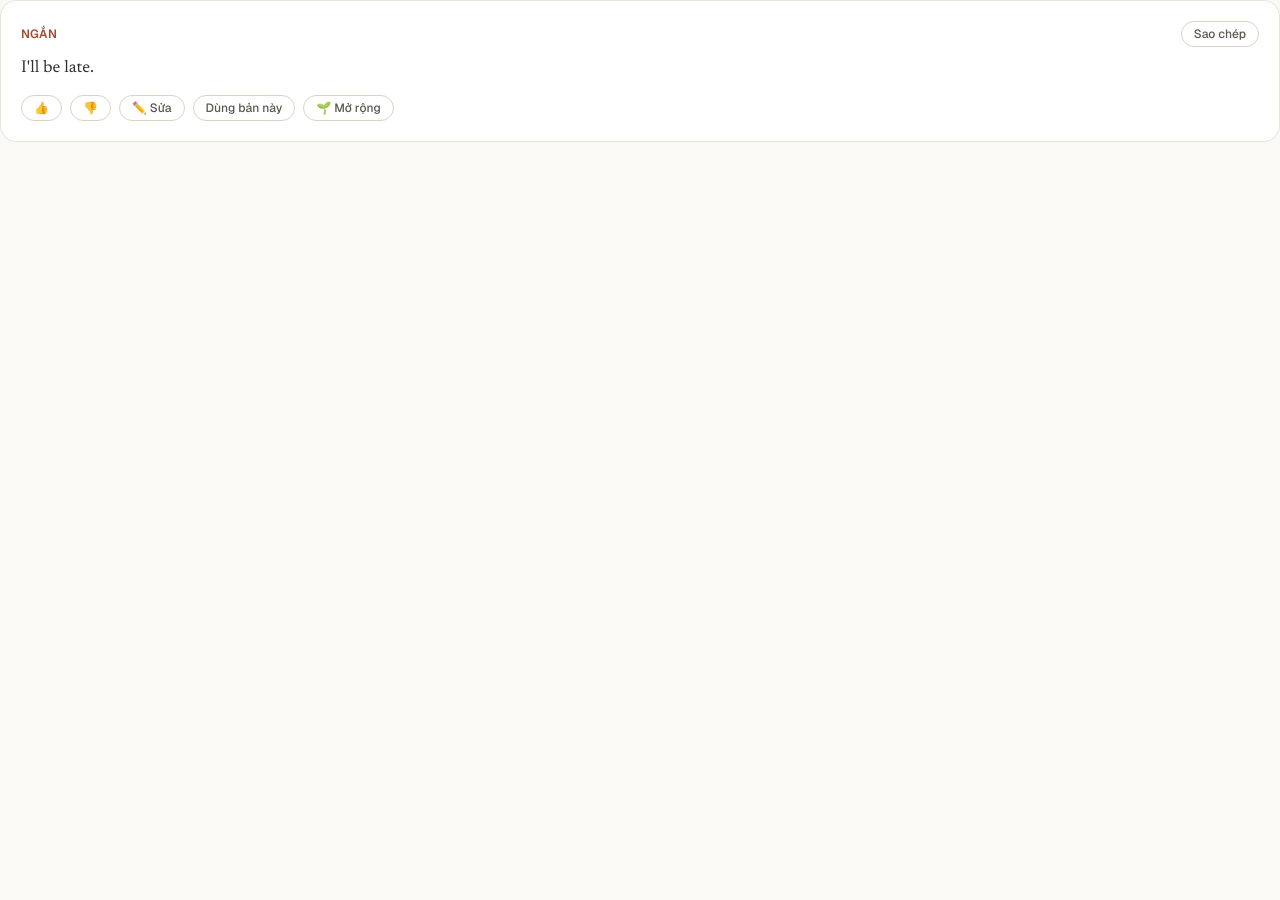
Test: DevelopableOption › shows the two developed versions below the original, which stays
Expected: the button named "Bản nháp hay" is shown, top-left (21, 95), bottom-right (62, 121)
Click the button with aria-label "Mở rộng bản nháp này". click: (349, 108)
box: top-left (303, 95), bottom-right (394, 121)
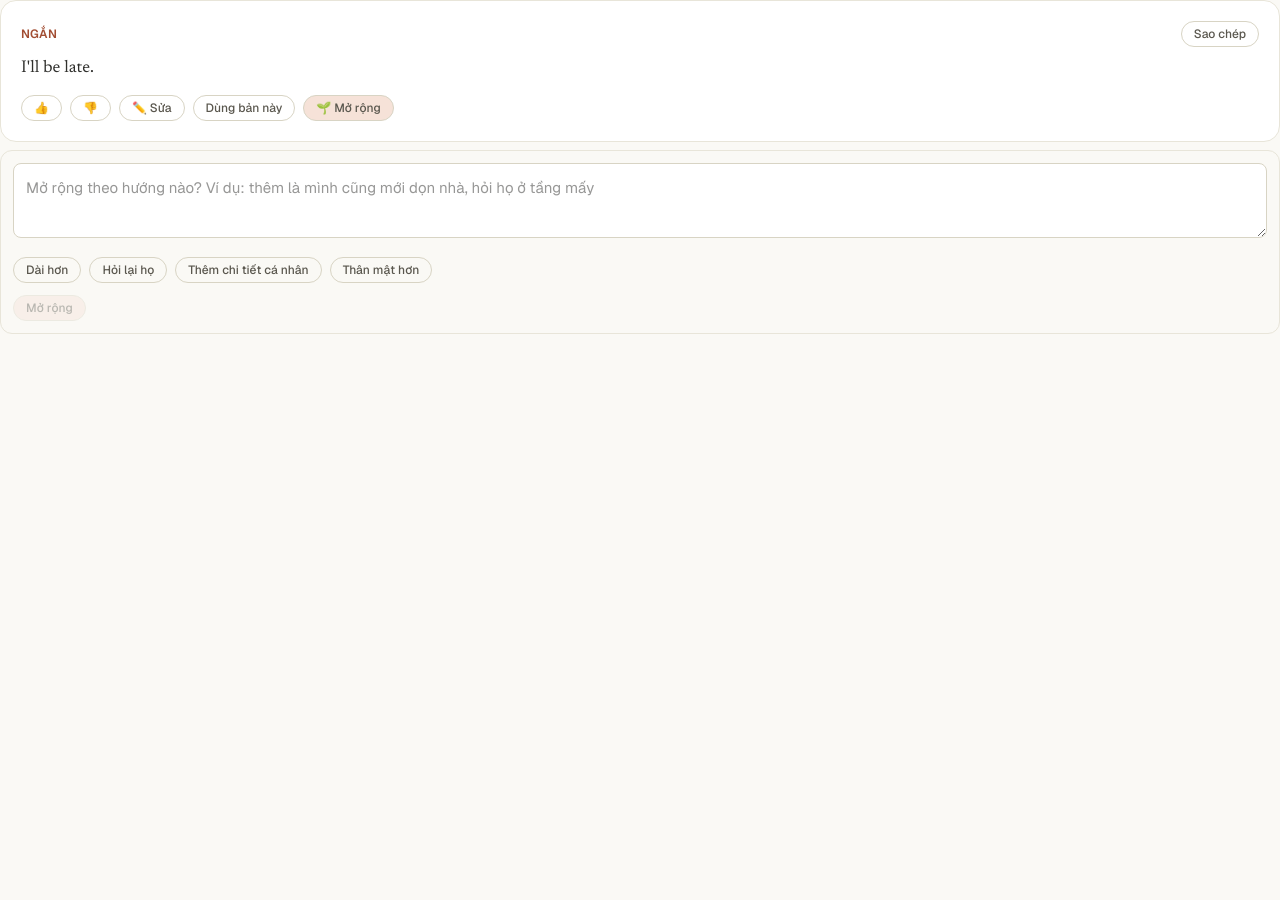
Replace the text in the text box named "mở rộng bản nháp này theo hướng nào" with "thêm là xe buýt chậm". click: (640, 200)
box: top-left (13, 163), bottom-right (1267, 238)
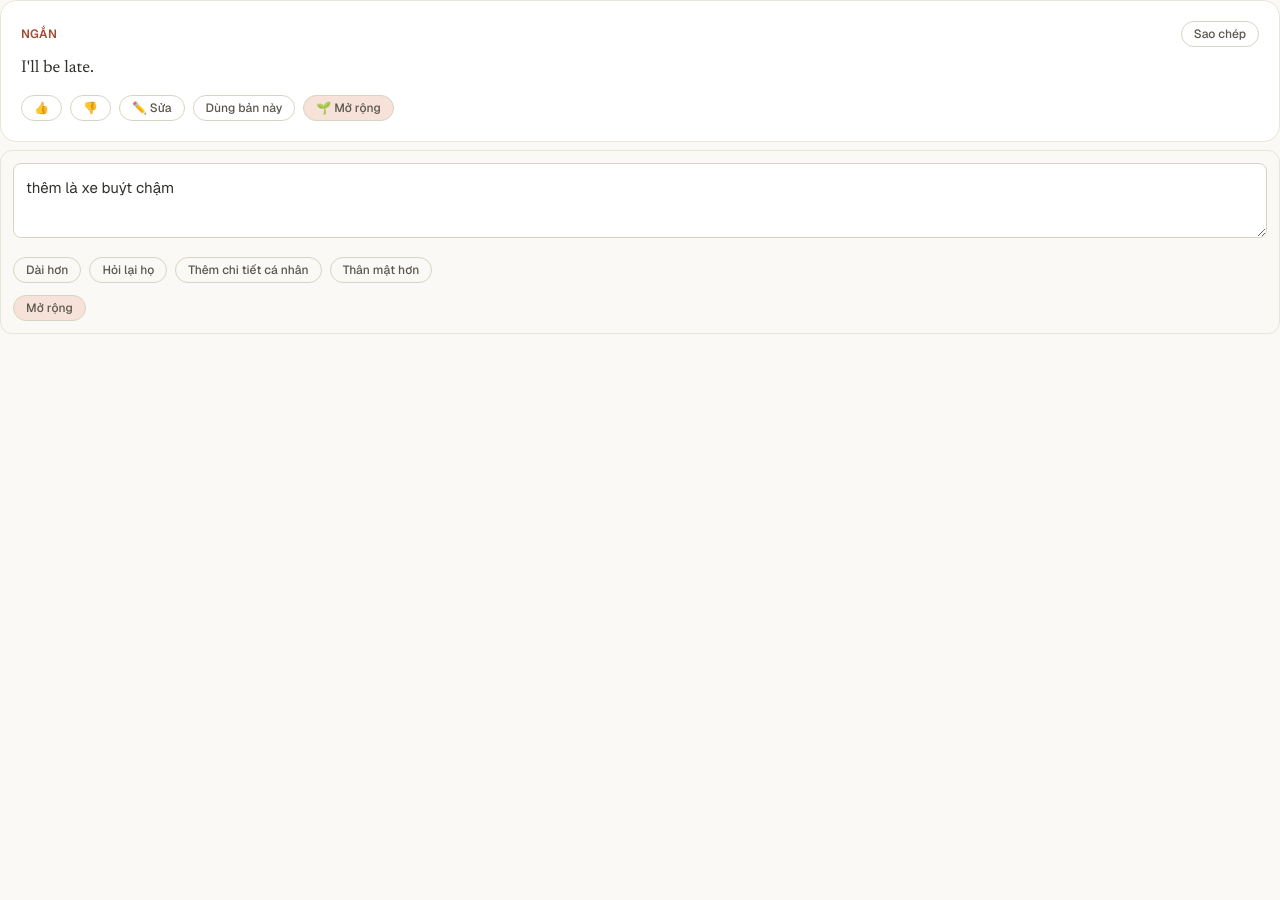
Click the button "Dài hơn". click: (47, 270)
box: top-left (13, 257), bottom-right (81, 283)
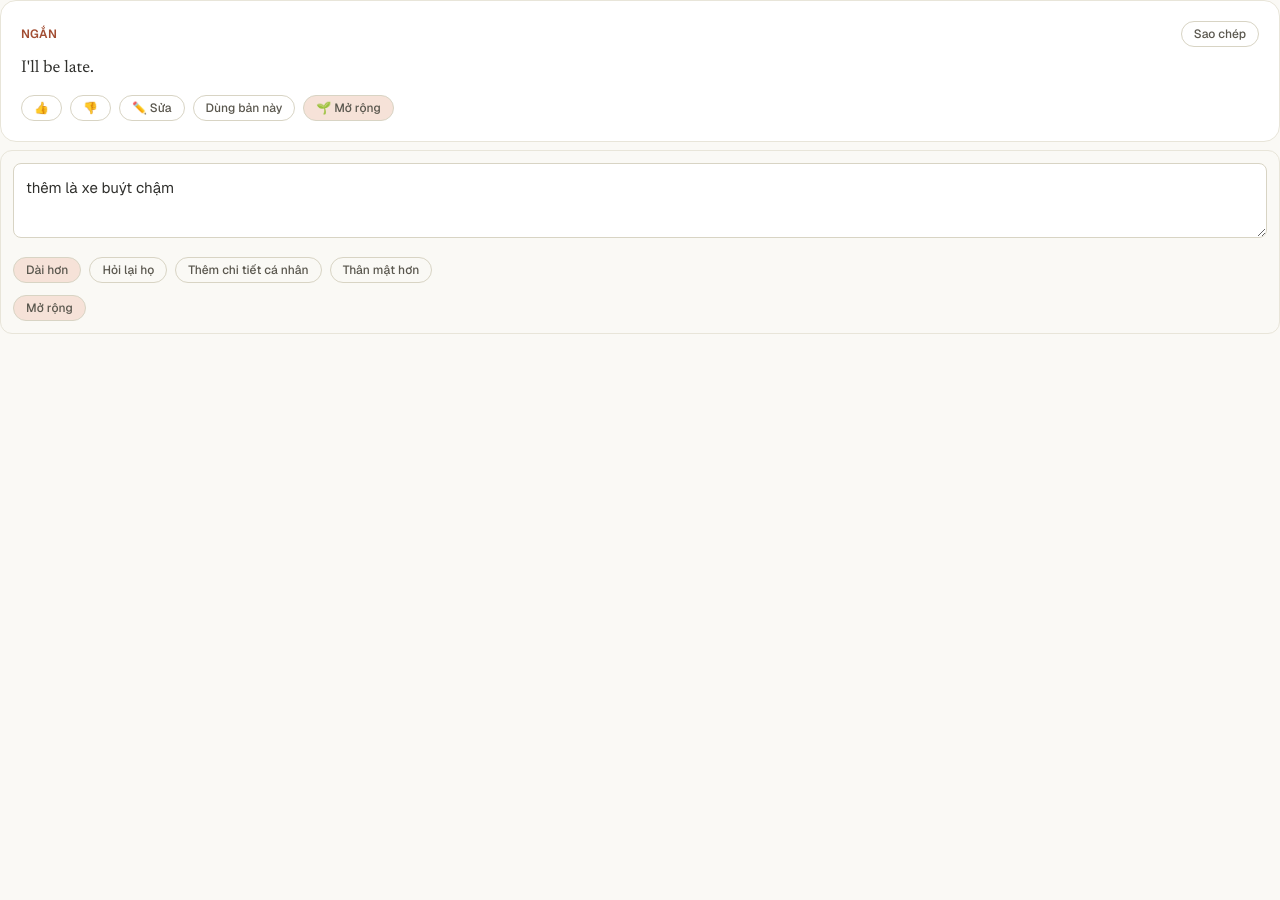
Click the button "Mở rộng". click: (49, 308)
box: top-left (13, 295), bottom-right (86, 321)
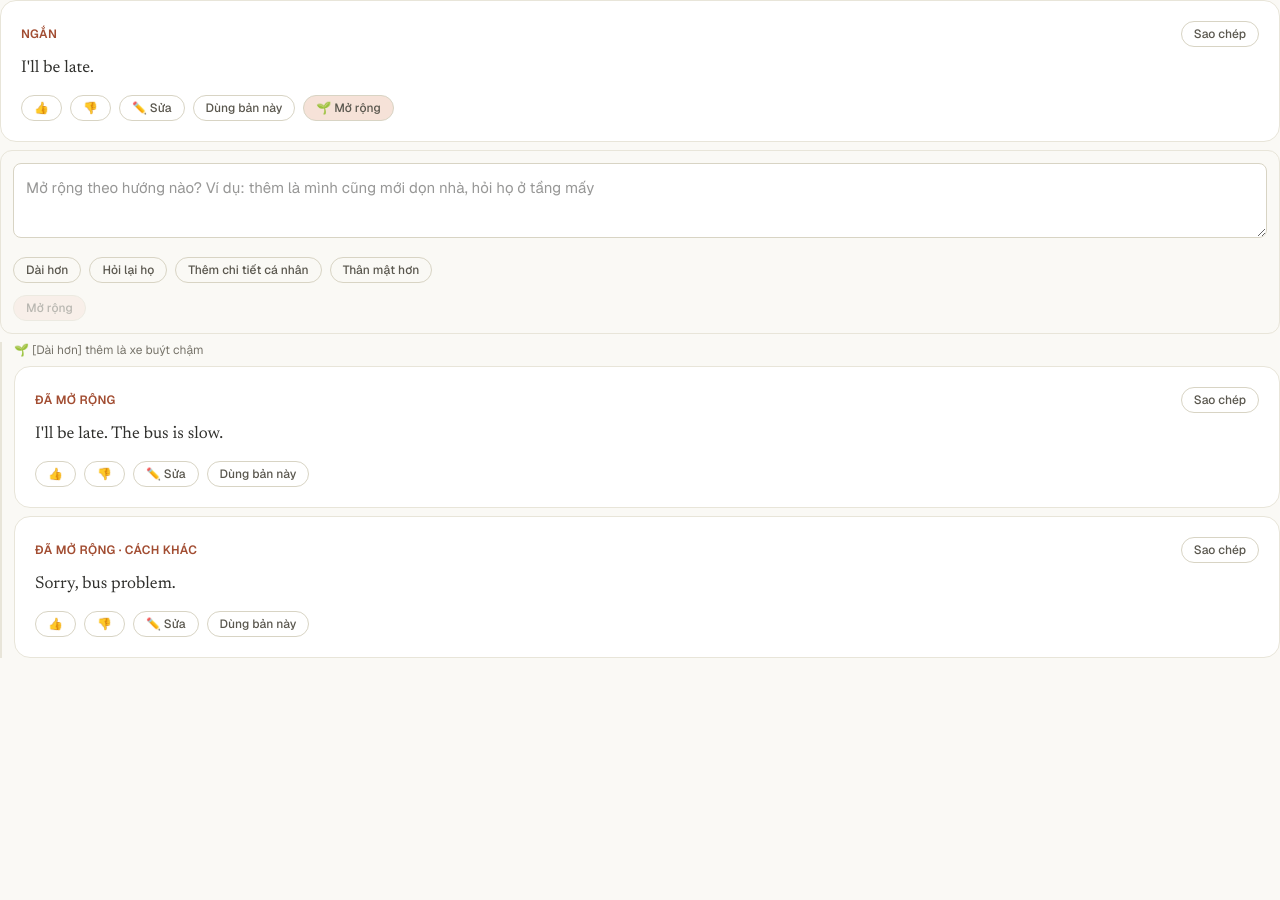
Now the text "I'll be late. The bus is slow." is shown, box top-left (35, 426), bottom-right (223, 443)
Now the text "Sorry, bus problem." is shown, box top-left (35, 576), bottom-right (176, 593)
Now the heading "Đã mở rộng" is shown, box top-left (35, 392), bottom-right (116, 408)
